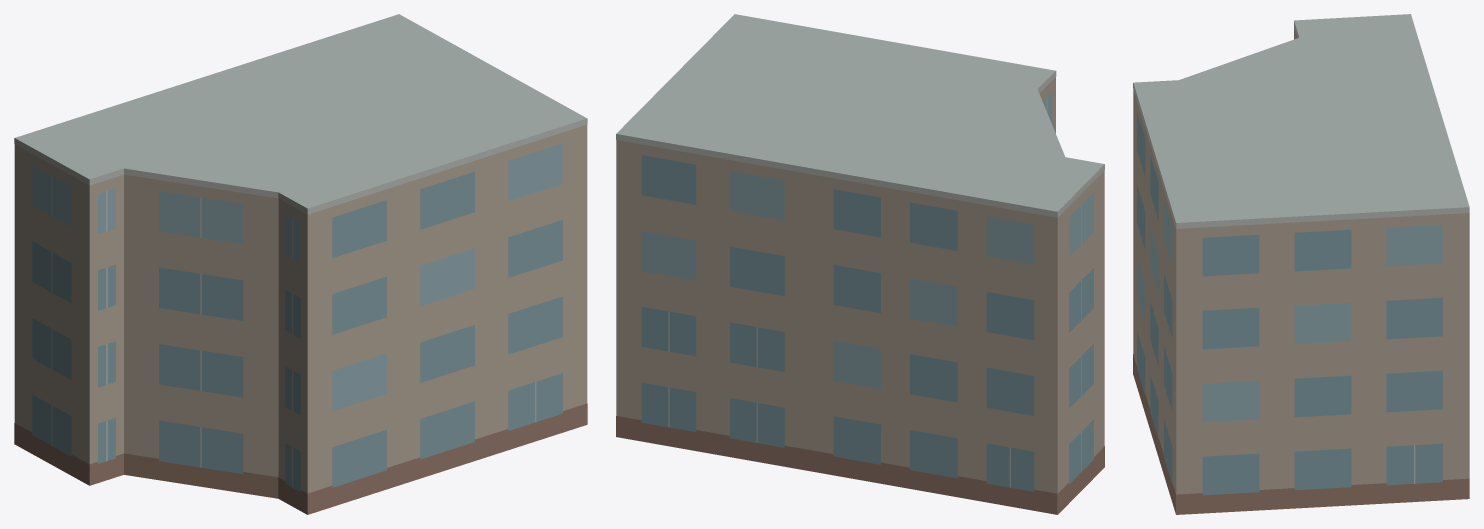
The model's file is residential-f13f4ab2-3a80-4855-bf61-763ab7532084.glb.
3 views of the same model, side by side, from view 1: azimuth 30°, elevation 25°; view 2: azimuth 150°, elevation 25°; view 3: azimuth 270°, elevation 25° (orthographic). The views are drawn at different scales.
Visible parts, largest first — view 1: residential-f13f4ab2-3a80-4855-bf61-763ab7532084.tmp; view 2: residential-f13f4ab2-3a80-4855-bf61-763ab7532084.tmp; view 3: residential-f13f4ab2-3a80-4855-bf61-763ab7532084.tmp.
Boxes of the visible parts, bbox=[...] form: residential-f13f4ab2-3a80-4855-bf61-763ab7532084.tmp: bbox=[14, 14, 587, 514]; residential-f13f4ab2-3a80-4855-bf61-763ab7532084.tmp: bbox=[616, 14, 1104, 514]; residential-f13f4ab2-3a80-4855-bf61-763ab7532084.tmp: bbox=[1133, 14, 1469, 514].
Bounding box in the file's own units: 18.75 × 12.2 × 12.76.
